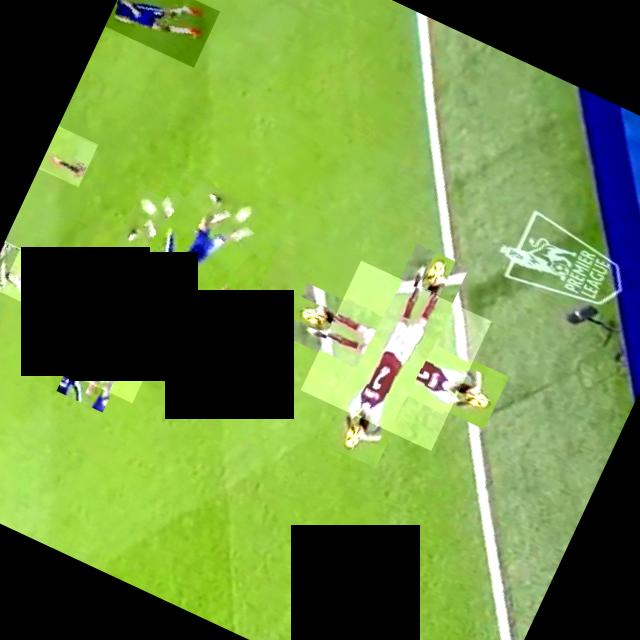ball: (285, 293, 335, 333)
soccer-player: (300, 260, 490, 450), (105, 172, 276, 344), (44, 273, 172, 403), (0, 241, 113, 336), (104, 0, 219, 68), (38, 126, 98, 187), (0, 242, 19, 288)
